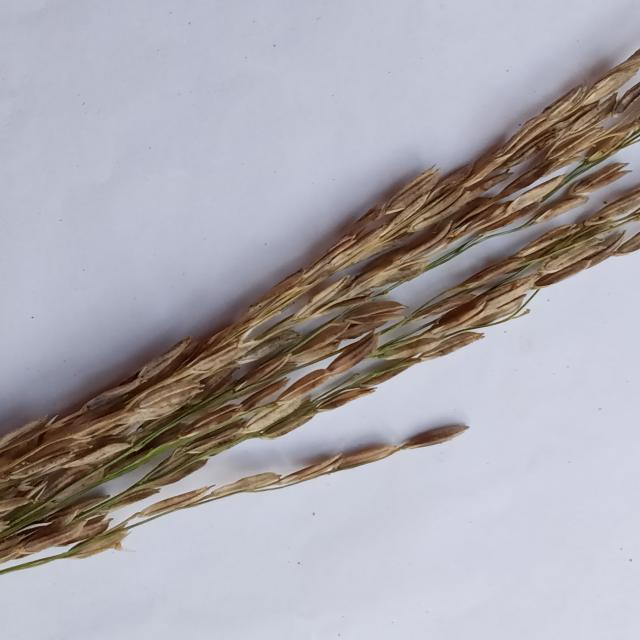Neck_Blast: (0, 41, 640, 513), (0, 177, 640, 589)
